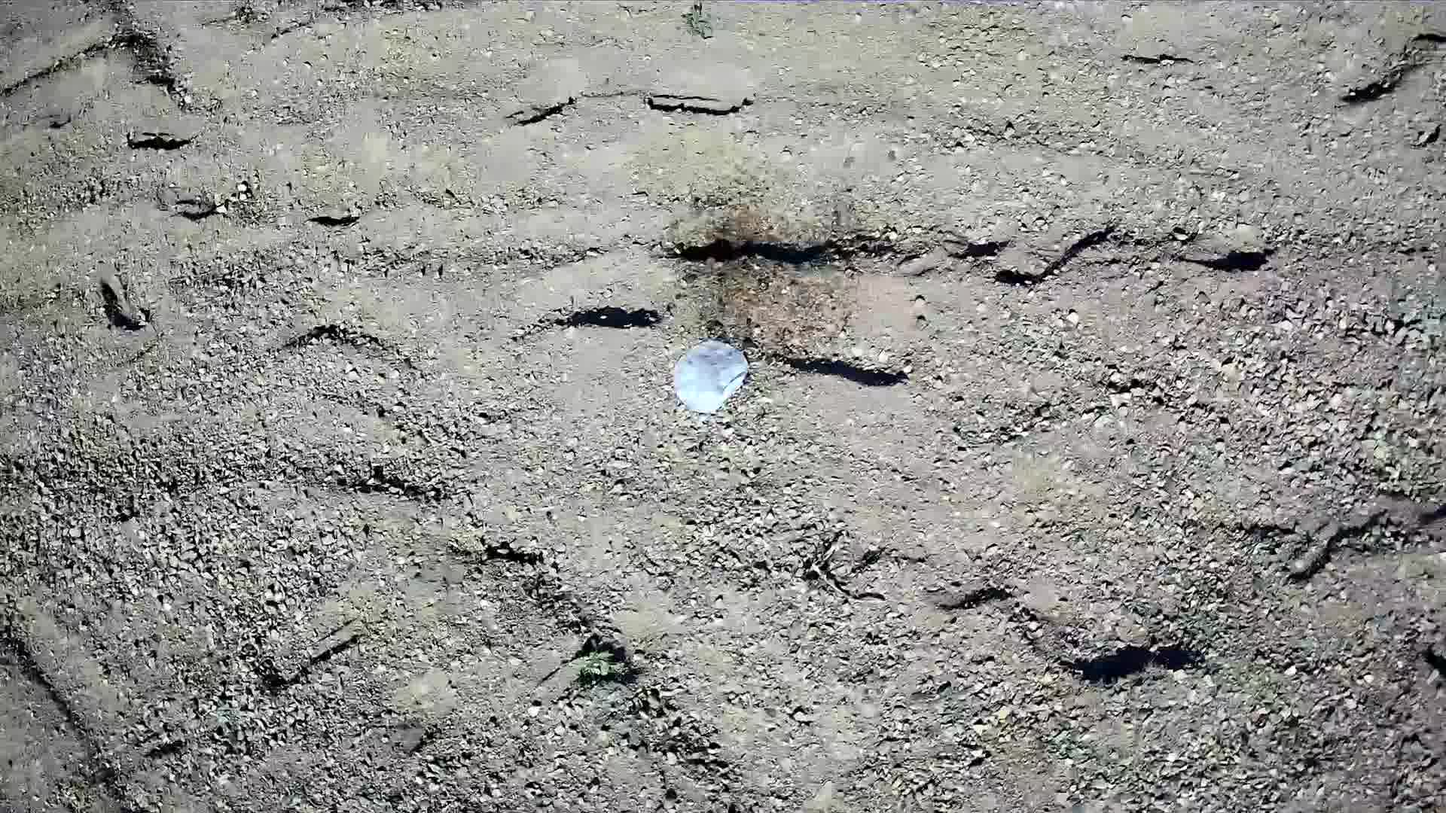Target: (672, 342, 749, 414)
